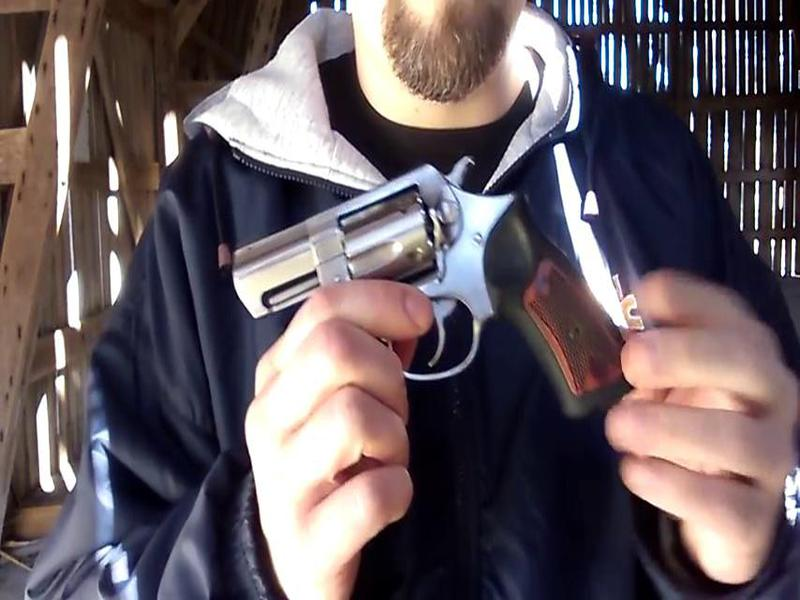Revolver: (238, 182, 652, 430)
